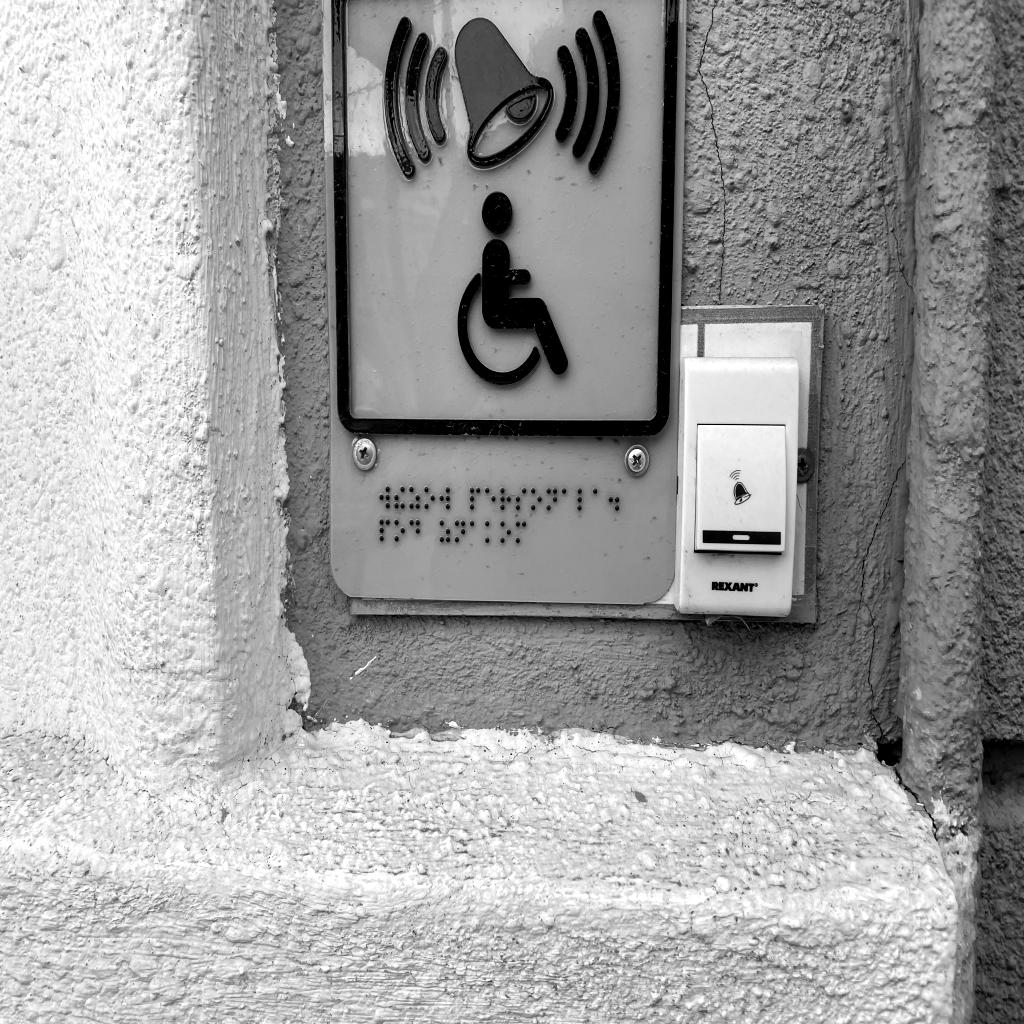_n: (455, 520, 466, 543), (547, 488, 558, 510)
a: (593, 488, 604, 511), (562, 488, 573, 510), (470, 520, 481, 542)
d: (409, 519, 420, 542)
e: (485, 487, 496, 511)
ii: (394, 486, 405, 509)
k: (485, 520, 496, 543)
l: (577, 488, 589, 511)
m: (516, 521, 527, 543)
o: (424, 486, 435, 509), (531, 488, 542, 511), (394, 519, 405, 542), (500, 521, 511, 543)
p: (469, 487, 481, 510), (379, 519, 390, 542)
r: (500, 488, 511, 511)
s: (515, 487, 527, 510)
tochka: (609, 489, 620, 511)
v: (439, 487, 451, 509), (379, 486, 390, 509)
z: (409, 486, 421, 509), (439, 520, 450, 542)
